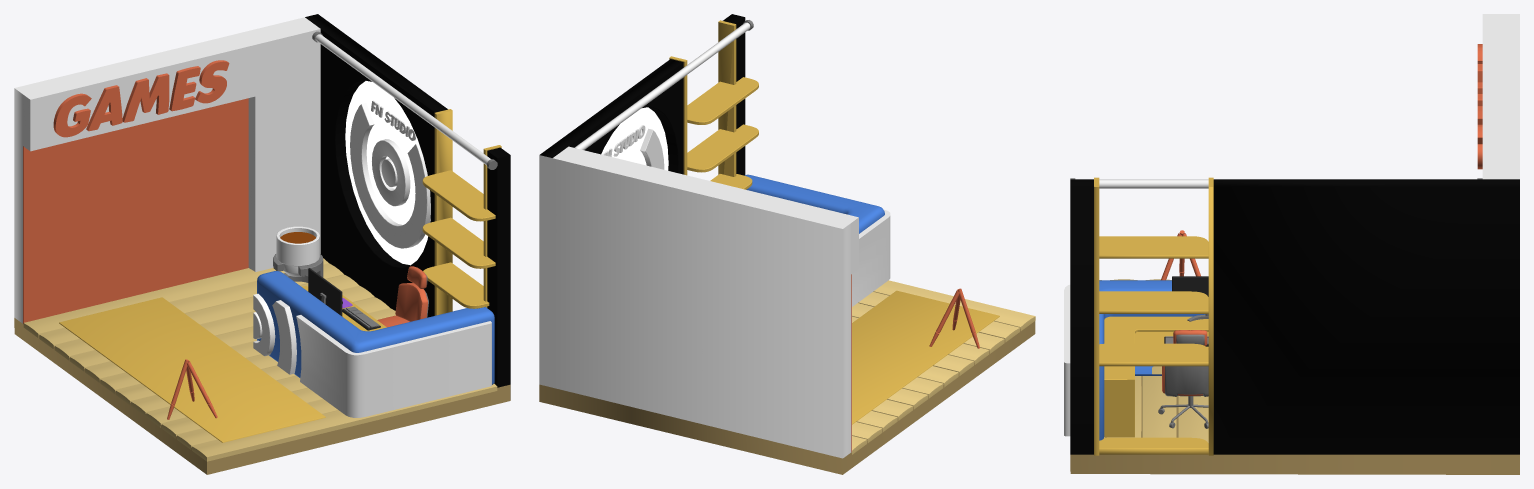
Rendered from floor01.glb.
The picture shows the model from 3 angles, left to right: view 1: azimuth 30°, elevation 25°; view 2: azimuth 150°, elevation 25°; view 3: azimuth 270°, elevation 25°; orthographic projection. The views are drawn at different scales.
Visible parts, largest first — view 1: imageWall, outerWall02, outerWall01, floor01, carpet, infoDesk_exterior, floor02, infoDesk_interior, logo, shelves, textGames, interiorWall01 (+6 smaller); view 2: outerWall02, carpet, floor02, floor01, outerWall01, shelves, infoDesk_exterior, infoDesk_interior, shelvesFrame, interiorWall01, curtain, logo; view 3: outerWall01, shelves, floor02, outerWall02, infoDesk_table, floor01, shelvesFrame, infoDesk_interior, officeChair_rear, curtain, infoDesk_exterior, textGames (+1 smaller).
Boxes of the visible parts, x1,y1,x2,y2 form: imageWall: (23,98,248,323); outerWall02: (14,17,320,323); outerWall01: (305,14,510,387); floor01: (23,258,497,461); carpet: (59,297,325,442); infoDesk_exterior: (253,293,491,417); floor02: (14,318,510,474); infoDesk_interior: (257,271,494,384); logo: (350,103,430,248); shelves: (422,170,495,308); textGames: (53,60,229,137); interiorWall01: (345,81,430,265); outerWall02: (539,146,858,458); carpet: (852,290,999,424); floor02: (539,321,1035,474); floor01: (852,280,1035,454); outerWall01: (540,14,745,175); shelves: (687,77,758,189); infoDesk_exterior: (852,209,890,306); infoDesk_interior: (745,174,884,233); shelvesFrame: (669,20,736,176); interiorWall01: (601,107,668,170); curtain: (575,22,750,149); logo: (640,128,664,169); outerWall01: (1070,179,1519,454); shelves: (1099,236,1208,454); floor02: (1070,376,1519,474); outerWall02: (1482,14,1519,179); infoDesk_table: (1104,316,1208,437); floor01: (1099,279,1208,442); shelvesFrame: (1094,177,1213,455); infoDesk_interior: (1099,280,1205,440); officeChair_rear: (1165,334,1208,396); curtain: (1099,179,1208,188); infoDesk_exterior: (1064,284,1070,436); textGames: (1477,44,1482,169).
Bounding box in the file's own units: 4.84 × 3.75 × 5.37.
